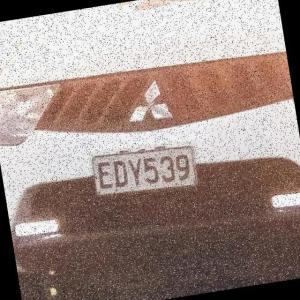Plate: (85, 134, 209, 210)
